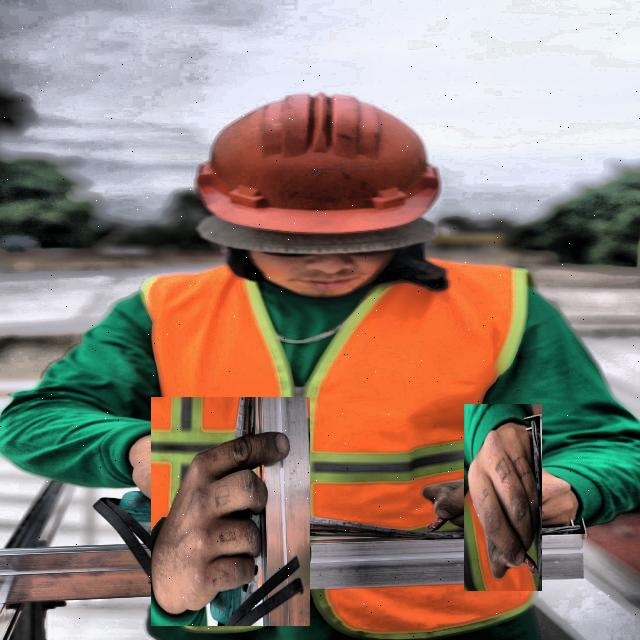not-gloved: (134, 414, 328, 608), (436, 431, 570, 564)
